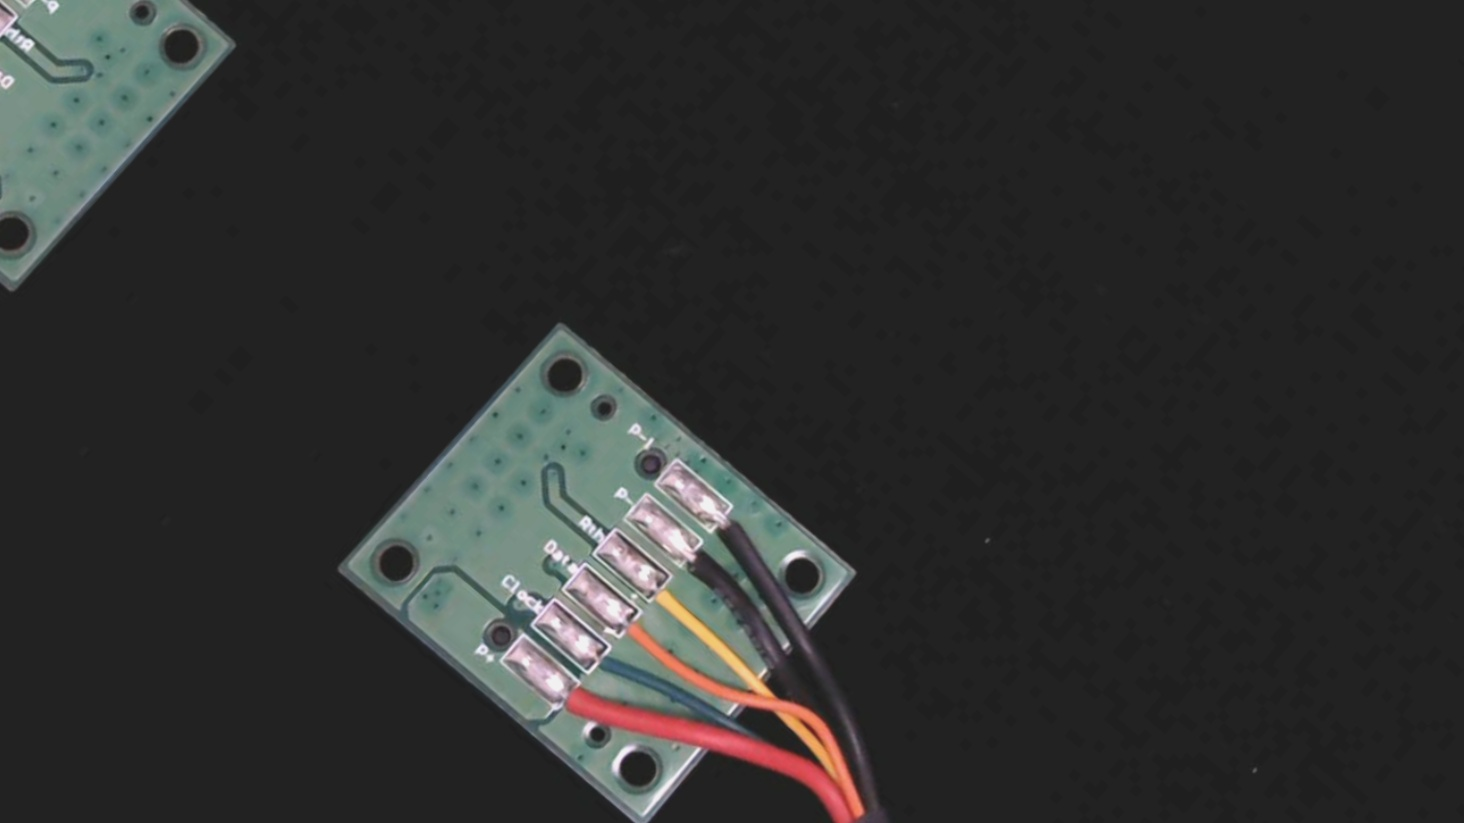Black: (662, 528, 750, 611)
Black1: (697, 491, 775, 567)
Green: (566, 630, 658, 717)
Orange: (600, 596, 692, 682)
Red: (540, 666, 631, 754)
Yellow: (630, 562, 713, 639)
